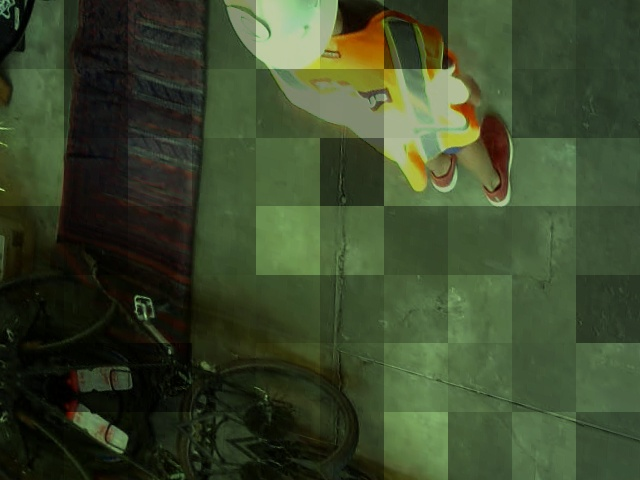two: (222, 2, 270, 47)
